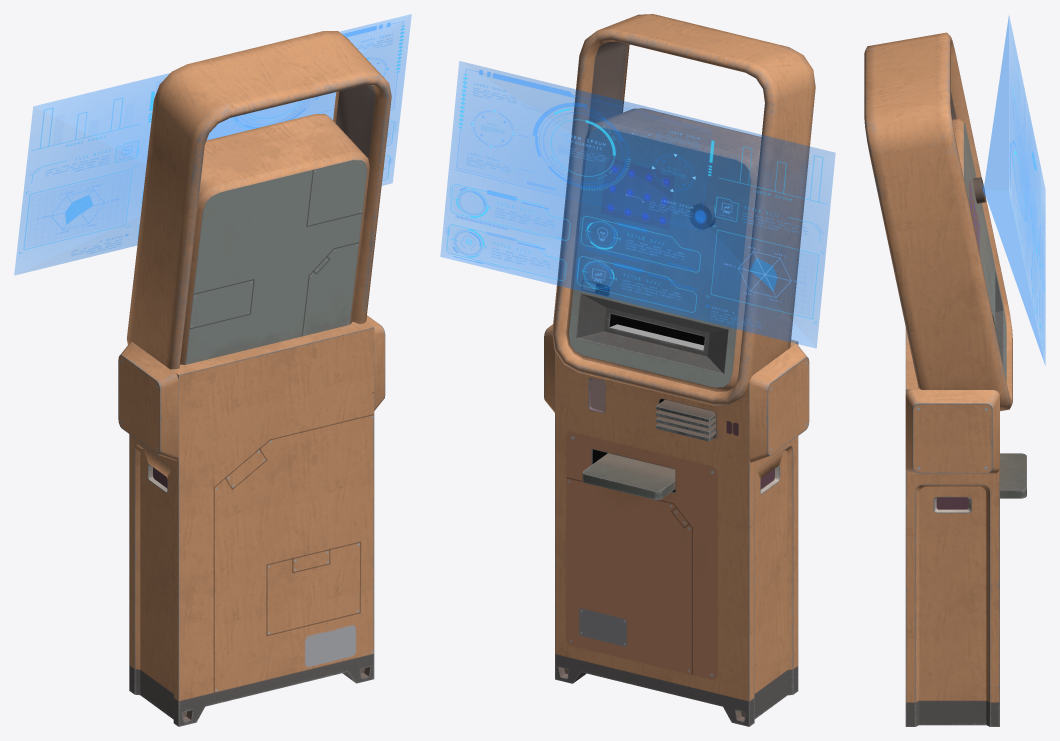
The model's file is sci-fi_terminal.glb.
3 renders of one model, left to right at view 1: azimuth 30°, elevation 25°; view 2: azimuth 150°, elevation 25°; view 3: azimuth 270°, elevation 25°, orthographic. The views are drawn at different scales.
Parts seen in each view (by area): view 1: Terminal-material, Terminal_hologram-material; view 2: Terminal-material, Terminal_hologram-material; view 3: Terminal-material, Terminal_hologram-material.
Part boxes in pixels (x1,y1,x2,y2): Terminal-material: [118, 31, 391, 726]; Terminal_hologram-material: [14, 14, 411, 274]; Terminal-material: [544, 14, 815, 726]; Terminal_hologram-material: [440, 61, 835, 347]; Terminal-material: [864, 32, 1026, 726]; Terminal_hologram-material: [984, 16, 1045, 364].
Size of the model in its own units: 1.69 by 2.73 by 0.73.
2 materials, 2 textured.
